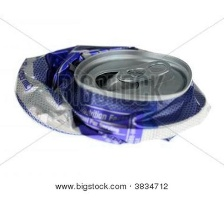can: (12, 41, 215, 153)
